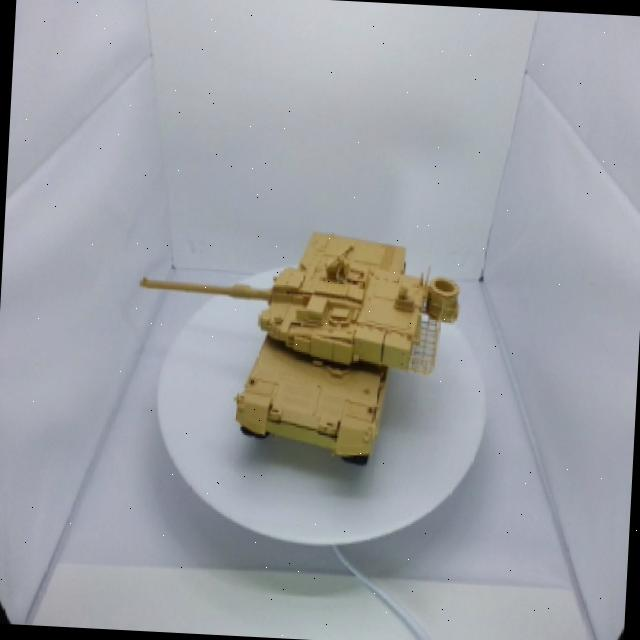korea tank: (102, 182, 496, 497)
